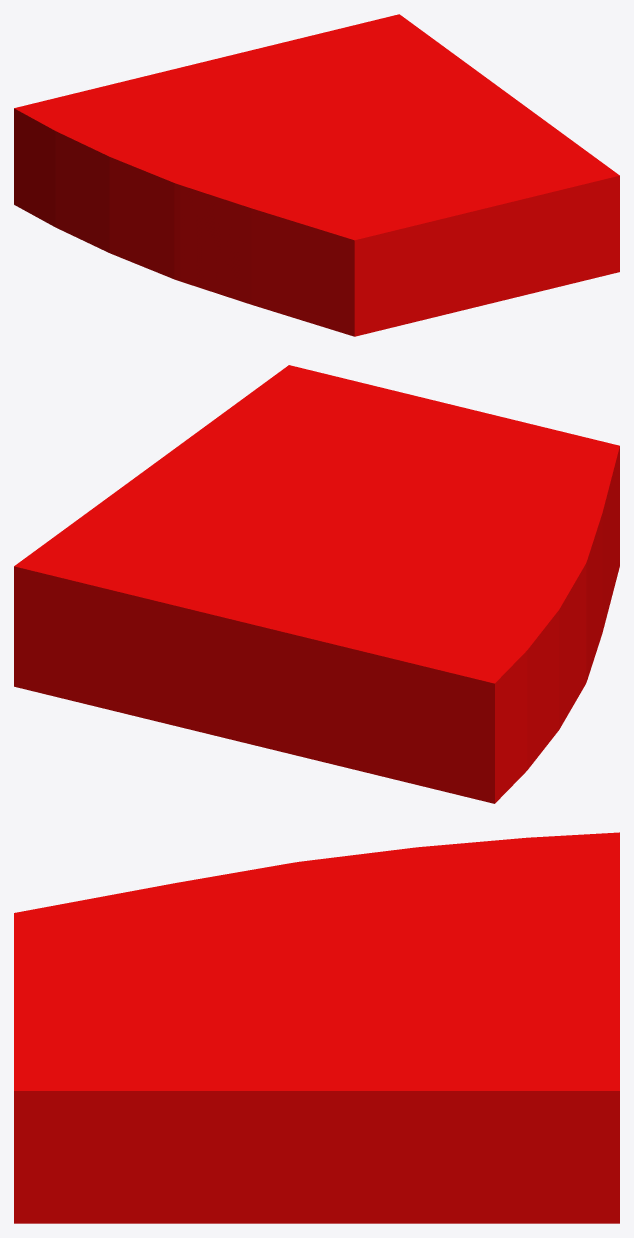
Rendered from pezzoTetris3.fbx.
3 views of the same model, one above another, from view 1: azimuth 30°, elevation 25°; view 2: azimuth 150°, elevation 25°; view 3: azimuth 270°, elevation 25° (orthographic). The views are drawn at different scales.
Visible parts, largest first — view 1: Cube.001; view 2: Cube.001; view 3: Cube.001.
Boxes of the visible parts, box(x1,y1,x2,y2) form: Cube.001: box(14, 14, 619, 336); Cube.001: box(14, 365, 619, 803); Cube.001: box(14, 832, 619, 1223).
Size of the model in its own units: 83.53 by 19.97 by 82.76.
